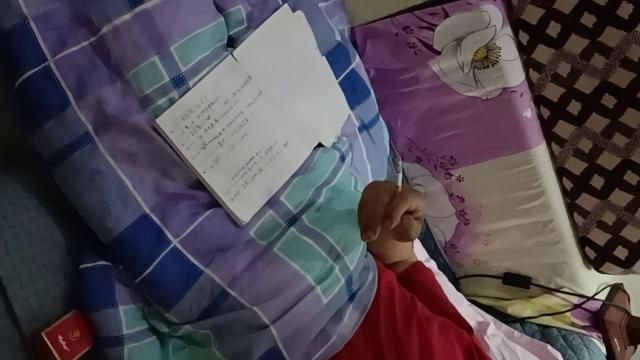Smoking: (396, 156, 402, 200)
